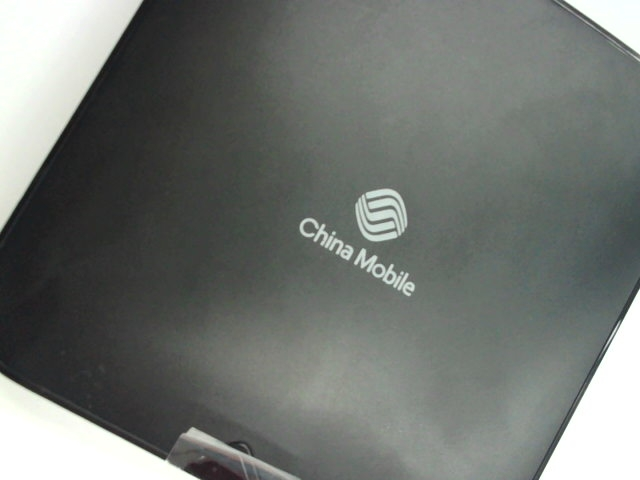ChinaMobile: (291, 176, 441, 303)
